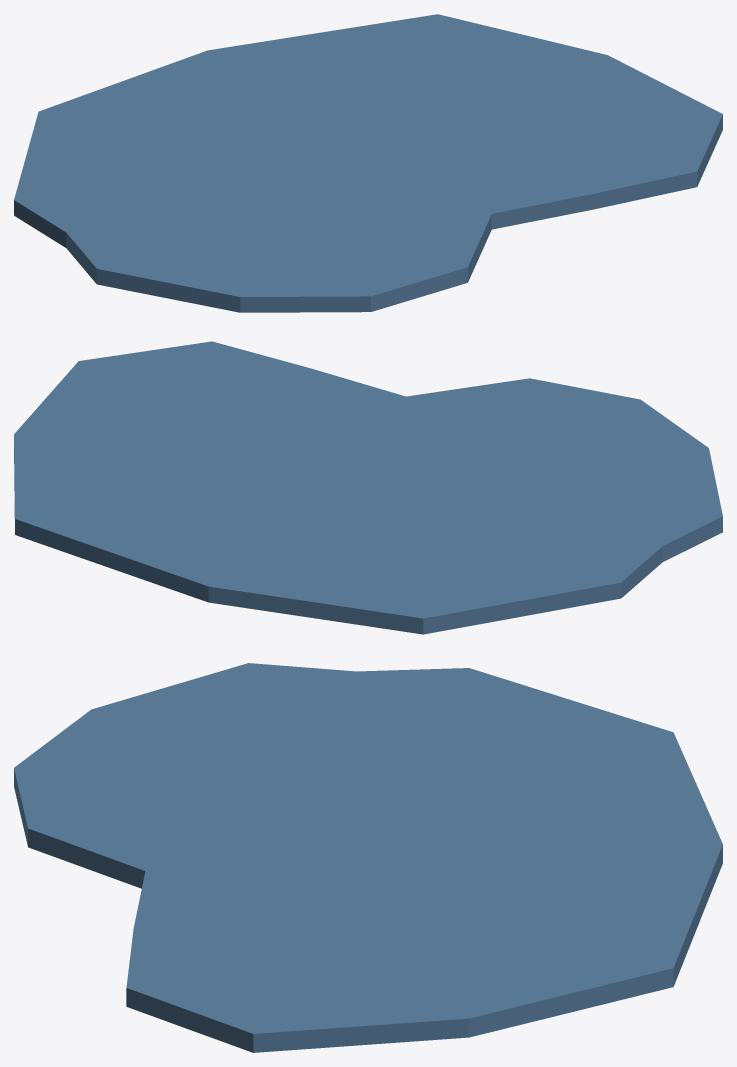
Rendered from Water.fbx.
3 views of the same model, one above another, from view 1: azimuth 30°, elevation 25°; view 2: azimuth 150°, elevation 25°; view 3: azimuth 270°, elevation 25° (orthographic). The views are drawn at different scales.
Parts seen in each view (by area): view 1: Water; view 2: Water; view 3: Water.
Part boxes in pixels (box(x1,y1,x2,y2)): Water: box(14, 14, 722, 312); Water: box(14, 341, 722, 634); Water: box(14, 663, 722, 1052).
Size of the model in its own units: 39.56 by 0.9434 by 31.96.
